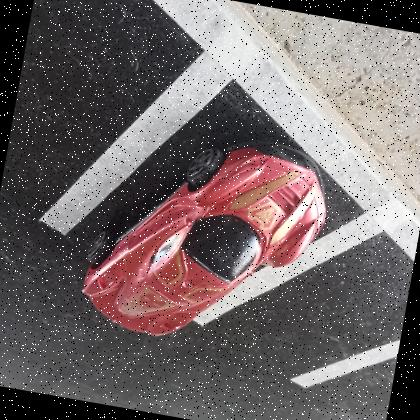Car: (82, 139, 327, 336)
